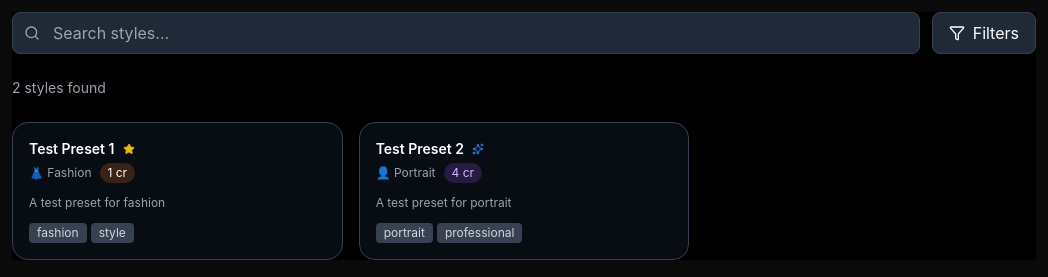
Test case: PresetGrid › should filter presets by search
Note: Search for 'fashion'
In the field with placeholder "Search styles...": (466, 33) [12, 12, 920, 54], type "fashion"
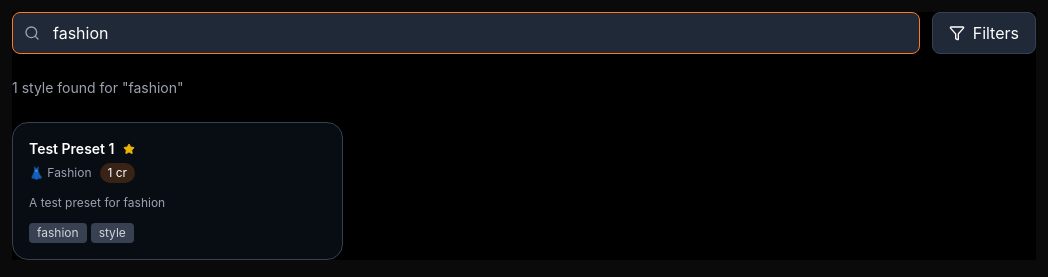
Expected: the heading "Test Preset 1" is shown, [29, 139, 114, 159]
Now the button "Test Preset 2" is gone
